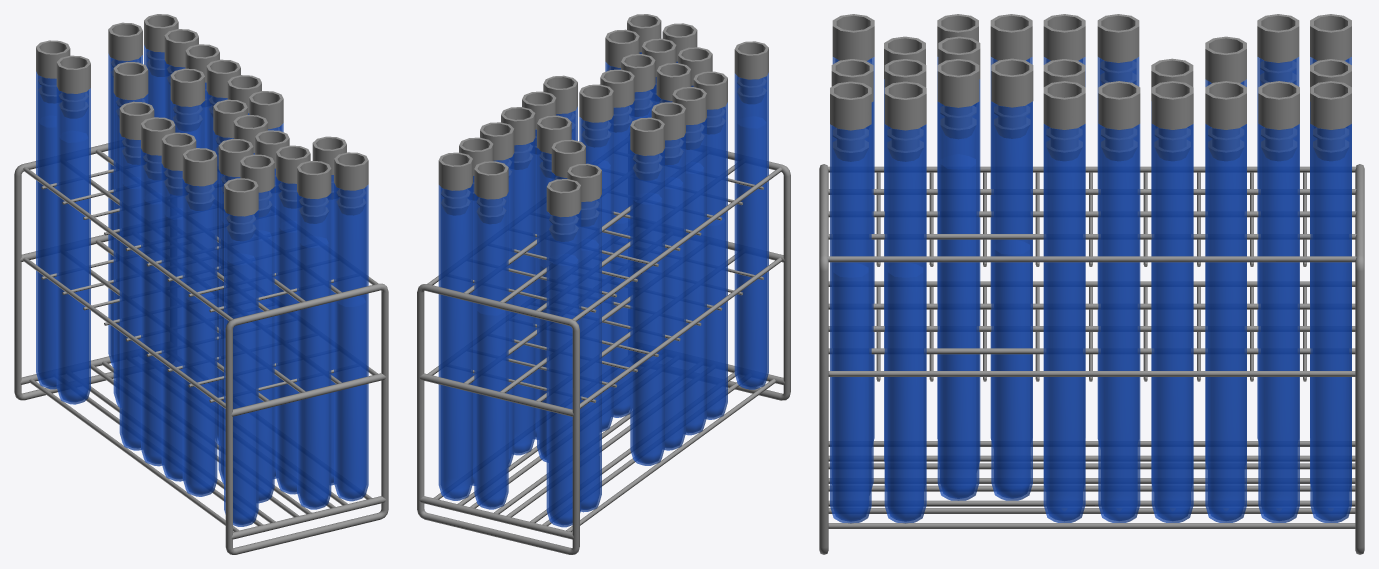
Rendered from SM_Test_Tube_Pattern4_LOD0.FBX.
3 renders of one model, left to right at view 1: azimuth 30°, elevation 25°; view 2: azimuth 150°, elevation 25°; view 3: azimuth 270°, elevation 25°, orthographic. The views are drawn at different scales.
Visible parts, largest first — view 1: SM_Test_Tube_Pattern04; view 2: SM_Test_Tube_Pattern04; view 3: SM_Test_Tube_Pattern04.
Boxes of the visible parts, x1=… form: SM_Test_Tube_Pattern04: x1=14, y1=14, x2=388, y2=554; SM_Test_Tube_Pattern04: x1=417, y1=14, x2=790, y2=554; SM_Test_Tube_Pattern04: x1=819, y1=14, x2=1364, y2=554.
Bounding box in the file's own units: 0.0861 × 0.1812 × 0.198.
